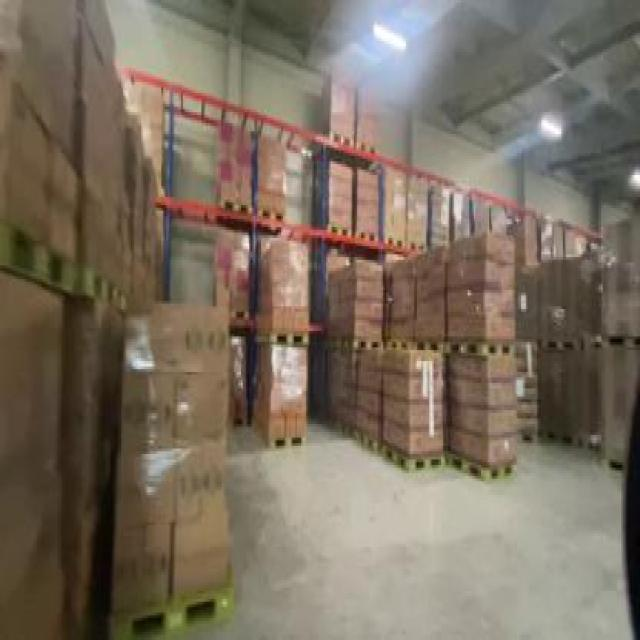box: (118, 306, 240, 632), (534, 208, 638, 484), (1, 268, 74, 637), (2, 0, 83, 268), (76, 0, 130, 290), (329, 336, 446, 468), (383, 249, 519, 345), (254, 238, 311, 446), (440, 350, 522, 484), (123, 109, 157, 301), (328, 60, 382, 162), (326, 151, 383, 246), (326, 260, 382, 342), (214, 222, 254, 314), (512, 211, 580, 265), (254, 126, 289, 219), (223, 331, 251, 432), (220, 126, 251, 210), (471, 192, 509, 254), (408, 172, 430, 257), (446, 186, 474, 249), (388, 164, 408, 249), (430, 175, 452, 252)
